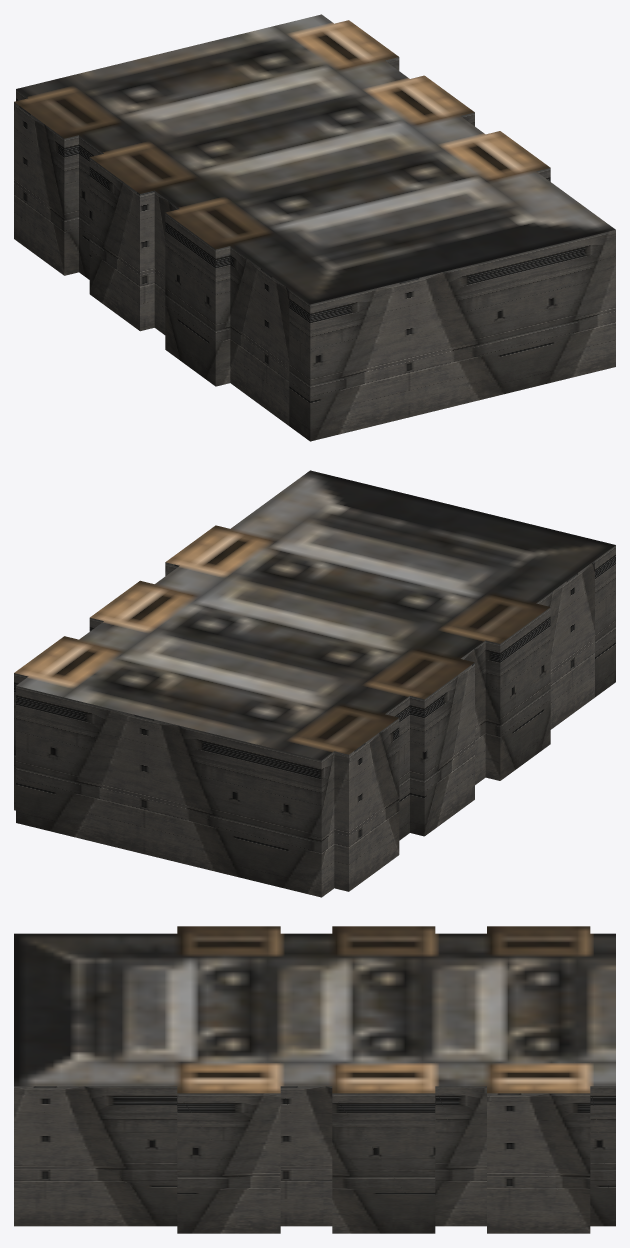
File: fortress_heavy_a_01.glb
3 views of the same model, one above another, from view 1: azimuth 30°, elevation 25°; view 2: azimuth 150°, elevation 25°; view 3: azimuth 270°, elevation 25° (orthographic). The views are drawn at different scales.
Visible parts, largest first — view 1: buildings/saxarba/fortress_heavy/fortress_heavy_a_01; view 2: buildings/saxarba/fortress_heavy/fortress_heavy_a_01; view 3: buildings/saxarba/fortress_heavy/fortress_heavy_a_01.
Boxes of the visible parts, bbox=[...] form: buildings/saxarba/fortress_heavy/fortress_heavy_a_01: bbox=[14, 14, 615, 441]; buildings/saxarba/fortress_heavy/fortress_heavy_a_01: bbox=[14, 470, 615, 897]; buildings/saxarba/fortress_heavy/fortress_heavy_a_01: bbox=[14, 926, 615, 1233].
Bounding box in the file's own units: 46 × 18 × 70.
